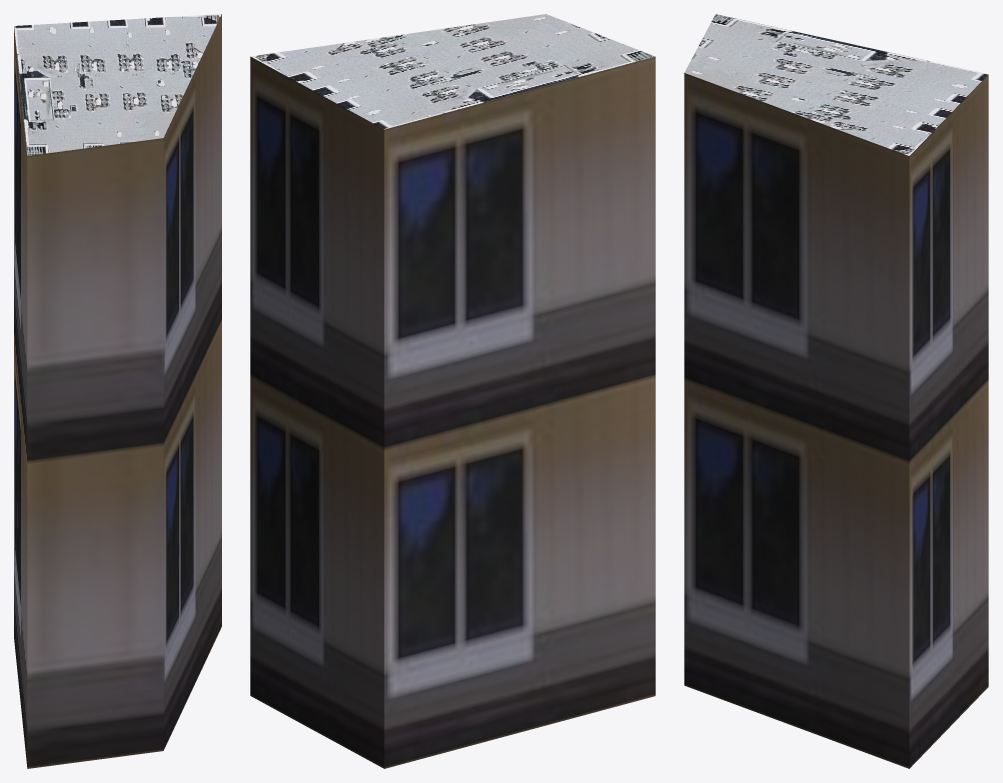
Rendered from ResTex__3976.fbx.
3 renders of one model, left to right at view 1: azimuth 30°, elevation 25°; view 2: azimuth 150°, elevation 25°; view 3: azimuth 270°, elevation 25°, orthographic. The views are drawn at different scales.
Visible parts, largest first — view 1: CityEngineMaterial_5_m, CityEngineMaterial_4_m; view 2: CityEngineMaterial_5_m, CityEngineMaterial_4_m; view 3: CityEngineMaterial_5_m, CityEngineMaterial_4_m.
Boxes of the visible parts, x1=… form: CityEngineMaterial_5_m: x1=14, y1=14, x2=221, y2=768; CityEngineMaterial_4_m: x1=14, y1=14, x2=221, y2=155; CityEngineMaterial_5_m: x1=250, y1=56, x2=655, y2=768; CityEngineMaterial_4_m: x1=250, y1=14, x2=654, y2=129; CityEngineMaterial_5_m: x1=684, y1=73, x2=988, y2=768; CityEngineMaterial_4_m: x1=684, y1=14, x2=988, y2=155.
Size of the model in its own units: 2.99 by 6 by 2.7.
Materials: 2 (2 with a texture image).
